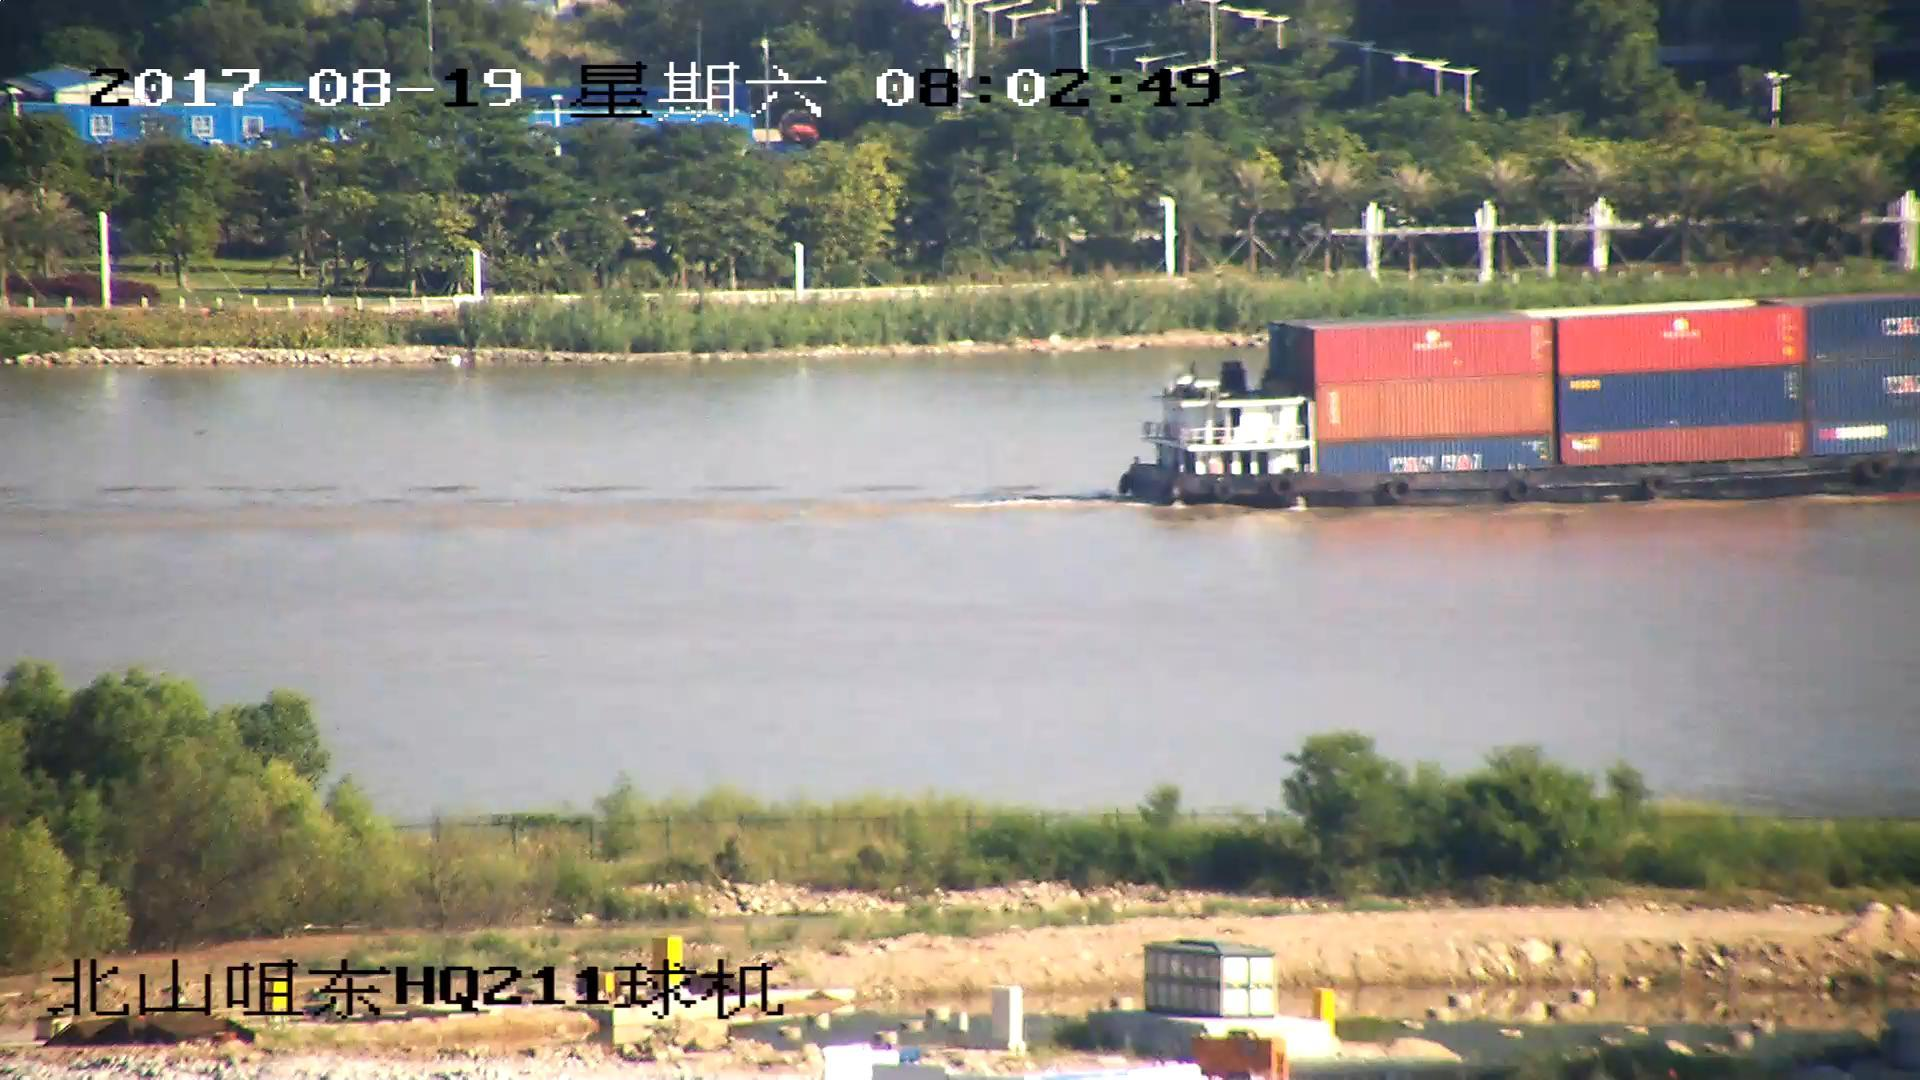Ship: (1113, 297, 1920, 512)
